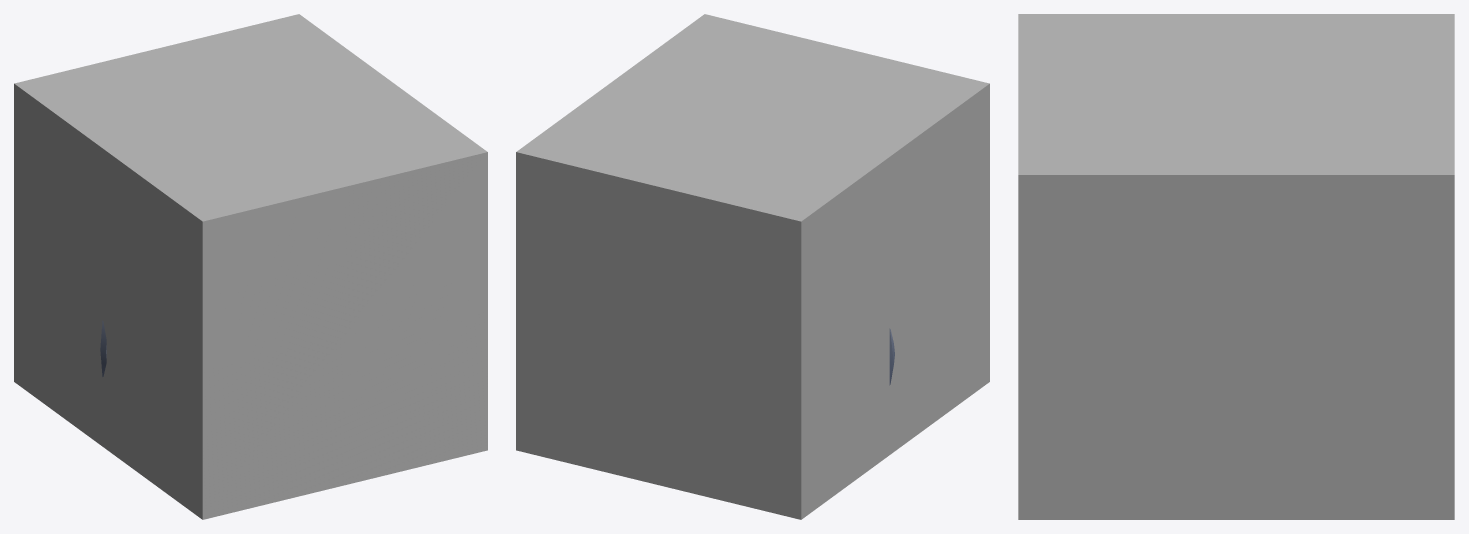
The picture shows the model from 3 angles, left to right: view 1: azimuth 30°, elevation 25°; view 2: azimuth 150°, elevation 25°; view 3: azimuth 270°, elevation 25°; orthographic projection. The views are drawn at different scales.
Visible parts, largest first — view 1: box; view 2: box; view 3: box.
Part boxes in pixels (left/top/right/bottom): box: left=14, top=14, right=487, bottom=519; box: left=516, top=14, right=989, bottom=519; box: left=1018, top=14, right=1454, bottom=519.
Size of the model in its own units: 0.2642 by 0.2616 by 0.2998.
2 materials, 1 textured.
